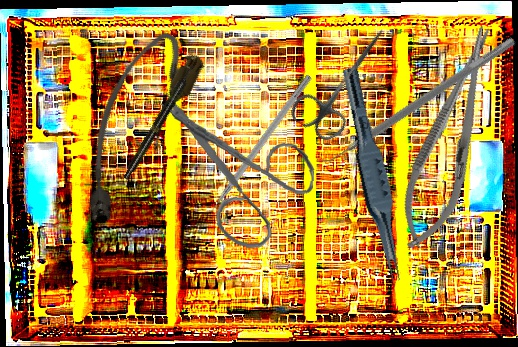Cannula: (53, 22, 211, 233)
Chopper: (195, 68, 313, 221)
Handpiece: (120, 62, 199, 182)
Iris Scissors: (144, 91, 321, 253), (286, 12, 404, 147)
Needle Holder: (387, 18, 514, 259)
Spatula Surgical: (312, 27, 517, 175)
Tissue Forceps: (329, 65, 415, 285)
